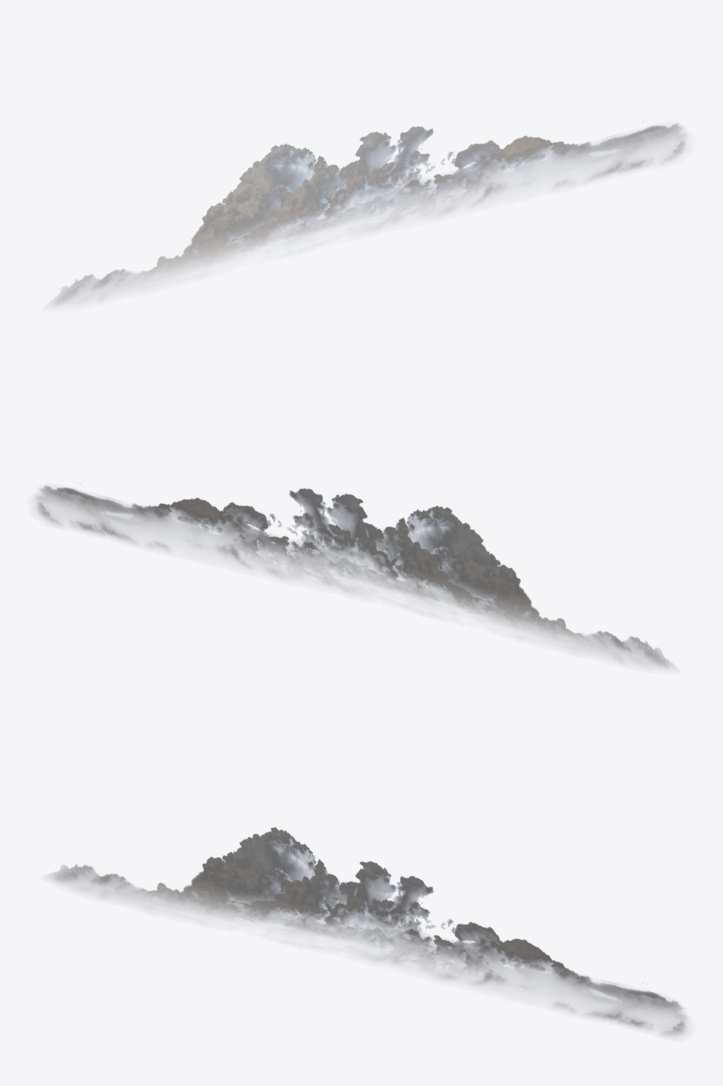
File: TCom_Skies0366_3_masked_S.002.gltf
3 renders of one model, top to bottom at view 1: azimuth 30°, elevation 25°; view 2: azimuth 150°, elevation 25°; view 3: azimuth 330°, elevation 25°, orthographic.
Visible parts, largest first — view 1: TCom_Skies0366_3_masked_S.002; view 2: TCom_Skies0366_3_masked_S.002; view 3: TCom_Skies0366_3_masked_S.002.
Part boxes in pixels (x1=…): TCom_Skies0366_3_masked_S.002: x1=48, y1=123, x2=686, y2=306; TCom_Skies0366_3_masked_S.002: x1=36, y1=485, x2=674, y2=668; TCom_Skies0366_3_masked_S.002: x1=48, y1=827, x2=686, y2=1036.
Size of the model in its own units: 211 by 47.71 by 1.06e-14.
Materials: 1 (1 with a texture image).
